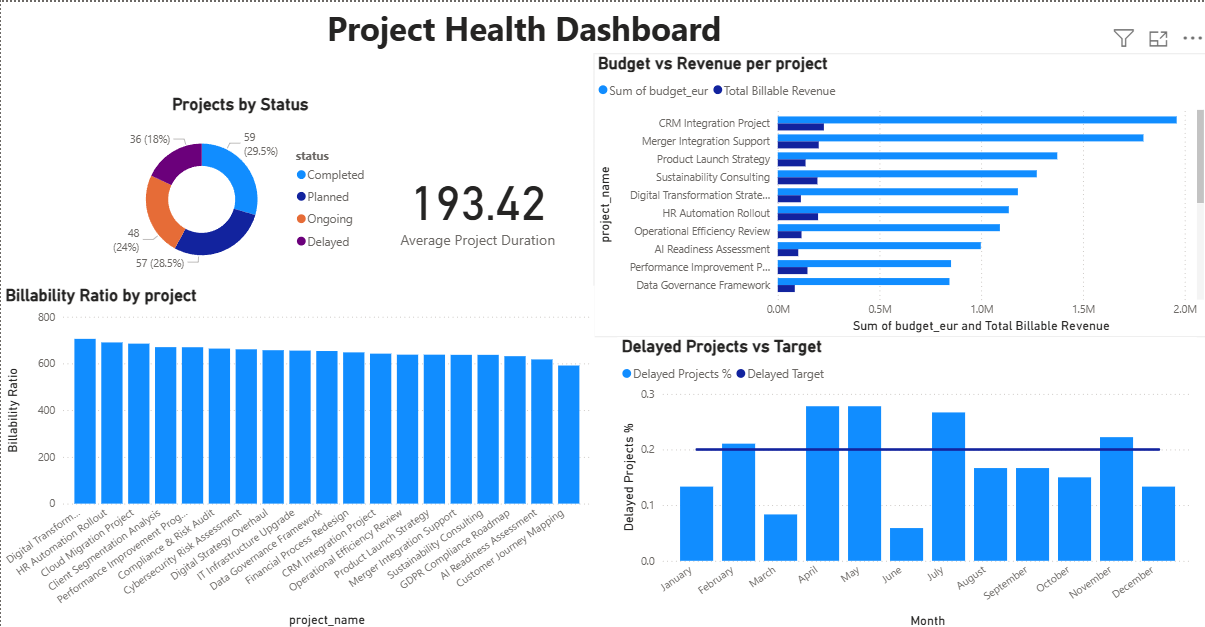

The dashboard page shown, as its layout file describes it:
{"tool":"powerbi","page":{"name":"Project Health","canvas":[1380,720],"ordinal":1},"visuals":[{"type":"donutChart","title":"Projects by Status","fields":{"Category":["Projects.status"],"Y":["CountNonNull(Projects.project_id)"]},"box":[117.1,105.7,312.9,218.6],"z":0},{"type":"textbox","box":[355.7,0,484.3,115.7],"z":1000},{"type":"clusteredBarChart","title":"Budget vs Revenue per project","fields":{"Category":["Projects.project_name"],"Y":["Sum(Projects.budget_eur)","consultants.Total Billable Revenue"]},"box":[677.1,58.6,702.9,324.3],"z":2000},{"type":"clusteredColumnChart","title":"Billability Ratio by project","fields":{"Category":["Projects.project_name"],"Y":["Projects.Billability Ratio"]},"box":[0,325,678.8,395],"z":3000},{"type":"lineClusteredColumnComboChart","title":"Delayed Projects  vs Target","fields":{"Category":["Projects.start_date.Variation.Date Hierarchy.Month"],"Y":["Projects.Delayed Projects %"],"Y2":["Projects.Delayed Target"]},"box":[703.8,382.5,662.5,337.5],"z":4000},{"type":"card","fields":{"Values":["Projects.Average Project Duration"]},"box":[430,164.3,230,138.6],"z":5000}]}

Visuals, with their boxes in screenshot pixels (x1, y1, x2, y2), scaled from the page's 1380x720 canvas onto the 1205x627 screenshot:
"Projects by Status" donutChart: 102 92 375 282
textbox: 311 0 733 101
"Budget vs Revenue per project" clusteredBarChart: 591 51 1204 333
"Billability Ratio by project" clusteredColumnChart: 0 283 593 626
"Delayed Projects  vs Target" lineClusteredColumnComboChart: 615 333 1193 626
card - Projects.Average Project Duration: 375 143 576 264
